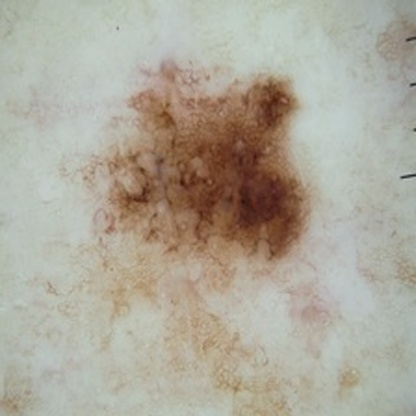malignant: (123, 76, 295, 266)
